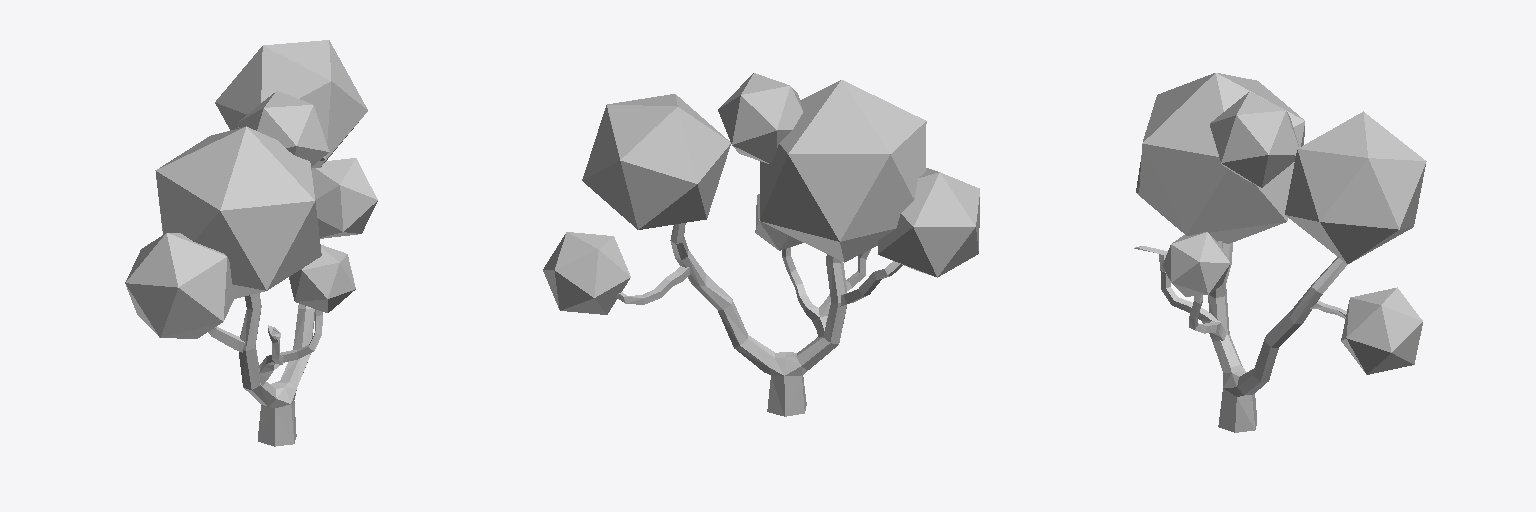
The model's file is arvoreGiant-flat.obj.
The picture shows the model from 3 angles: view 1: azimuth 30°, elevation 25°; view 2: azimuth 150°, elevation 25°; view 3: azimuth 270°, elevation 25°; orthographic projection.
Parts seen in each view (by area): view 1: arvoreGiant; view 2: arvoreGiant; view 3: arvoreGiant.
Part boxes in pixels (x1,y1,x2,y2): arvoreGiant: (125, 40, 377, 446); arvoreGiant: (543, 73, 979, 416); arvoreGiant: (1134, 73, 1426, 432).
Bounding box in the file's own units: 27.98 × 26.54 × 20.97.